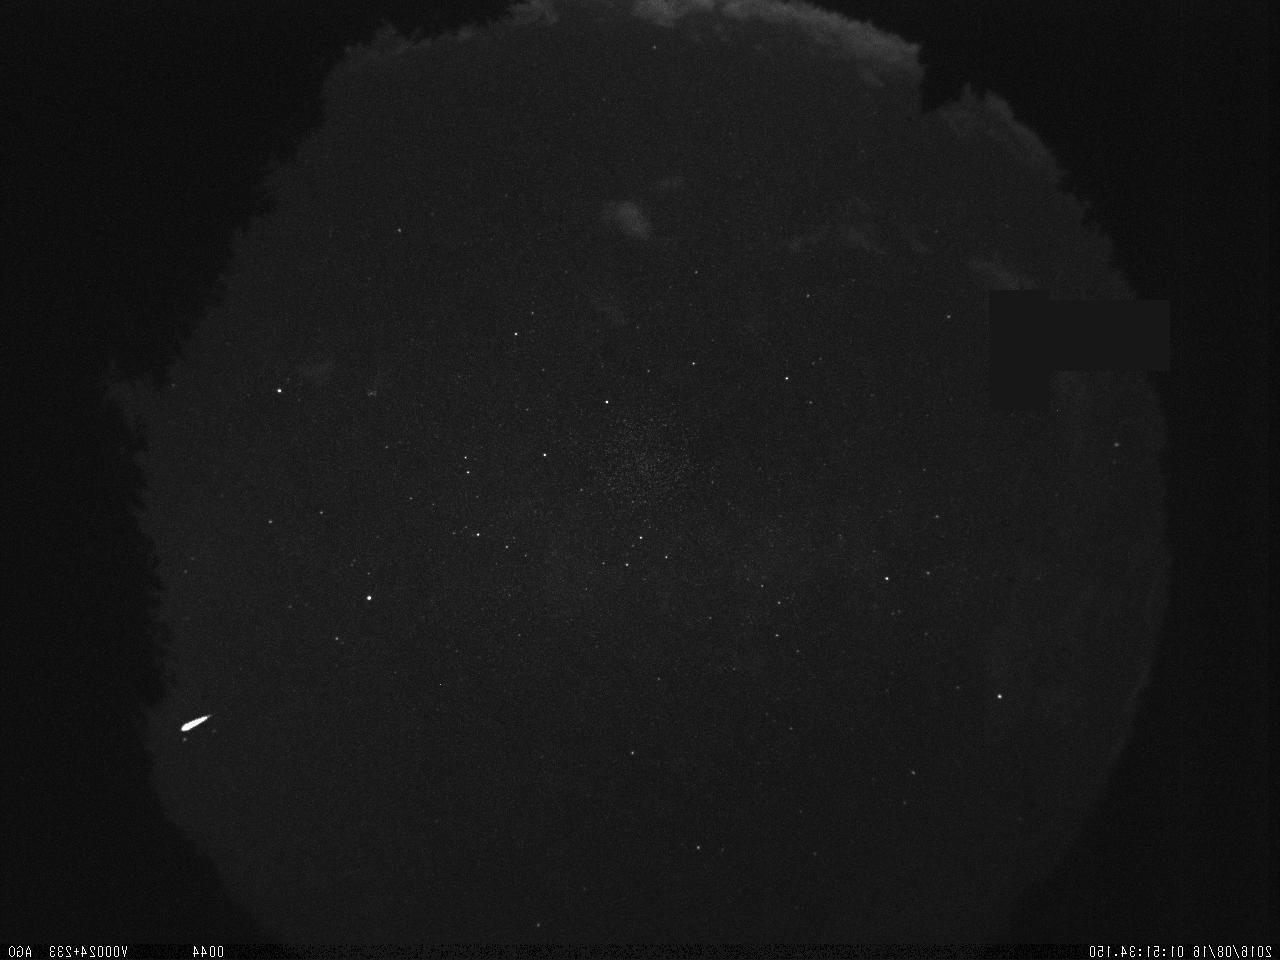meteor: (174, 704, 215, 747)
